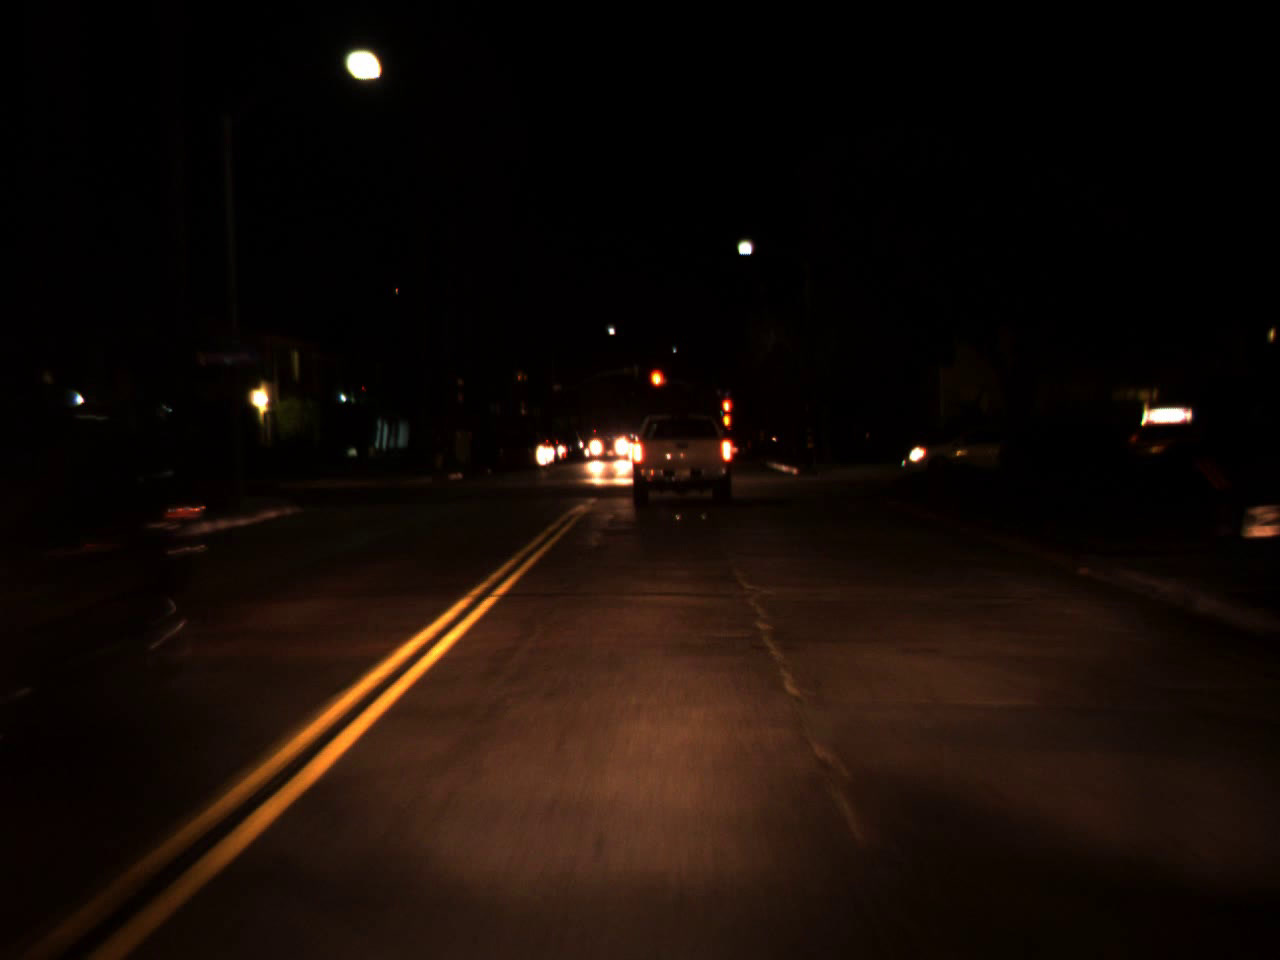stop: (649, 367, 665, 407), (721, 397, 733, 429)
